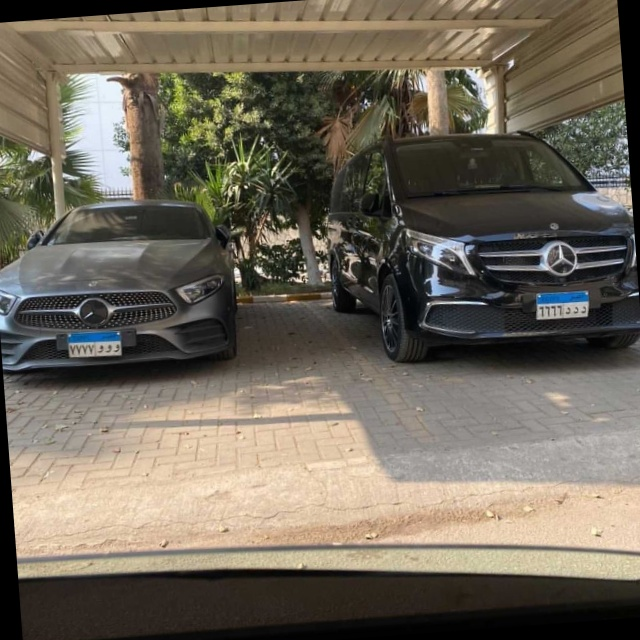License Plate: (65, 328, 123, 360), (535, 288, 591, 321)
